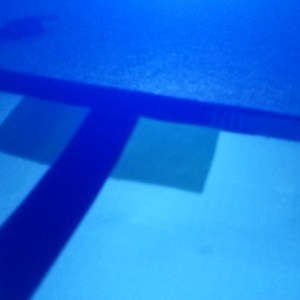bottom_left: (1, 96, 113, 166)
bottom_right: (92, 101, 220, 194)
